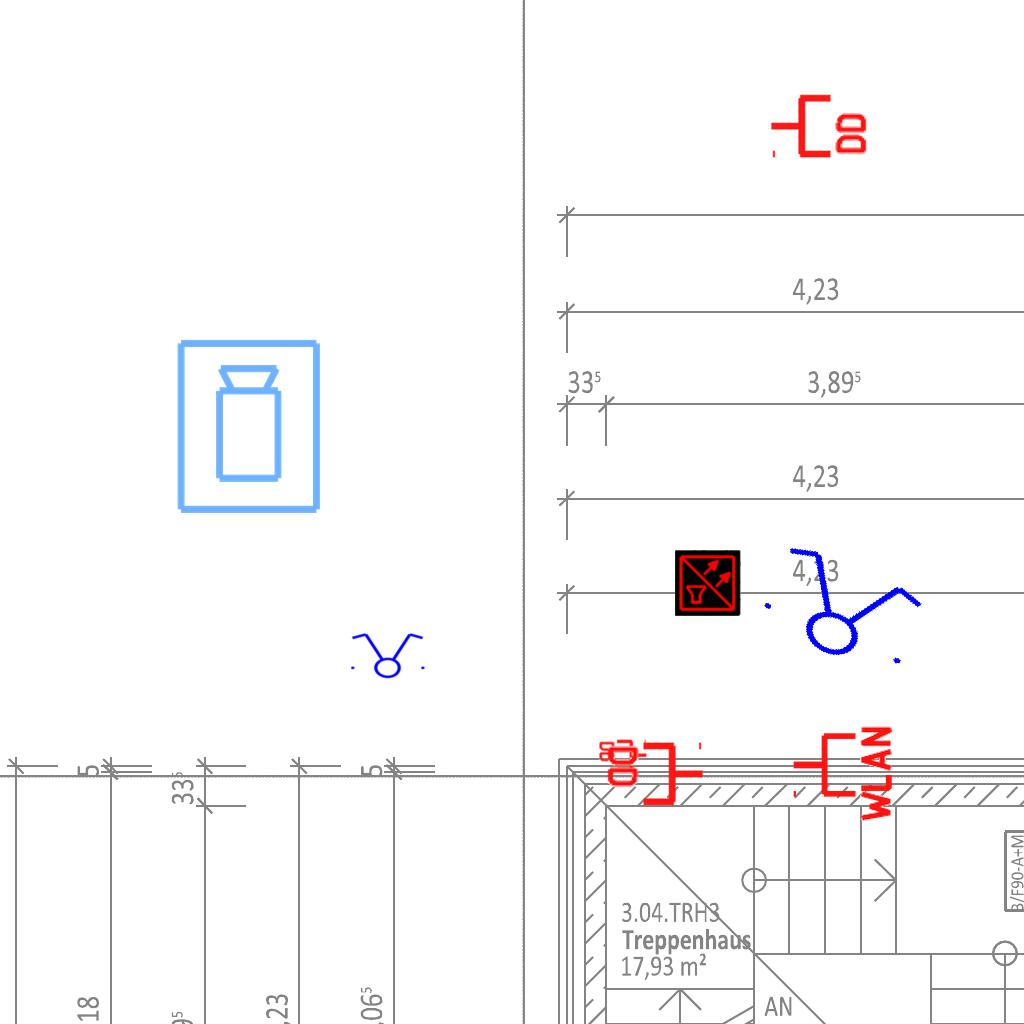Datenanschluss_zweifach: (768, 90, 871, 159), (603, 741, 706, 810), (597, 739, 648, 773)
KFO_Kamera_mit_Festobjektiv: (173, 336, 327, 518)
OKW_Multisensormelder_(Kombination_optischer_Rauch-Kahlenmonoxid_Waerme-Melder): (675, 550, 741, 616)
Serienschalter: (744, 531, 938, 687), (345, 631, 429, 679)
WLAN: (789, 722, 894, 826)
